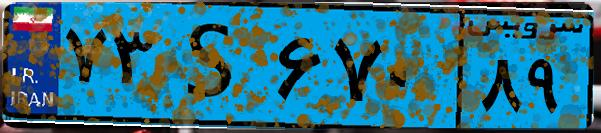0: (385, 28, 445, 110)
3: (110, 28, 158, 98)
6: (270, 28, 330, 110)
7: (330, 28, 385, 110), (57, 26, 110, 100)
8: (475, 38, 525, 113)
9: (525, 38, 570, 115)
S: (158, 12, 270, 120)
